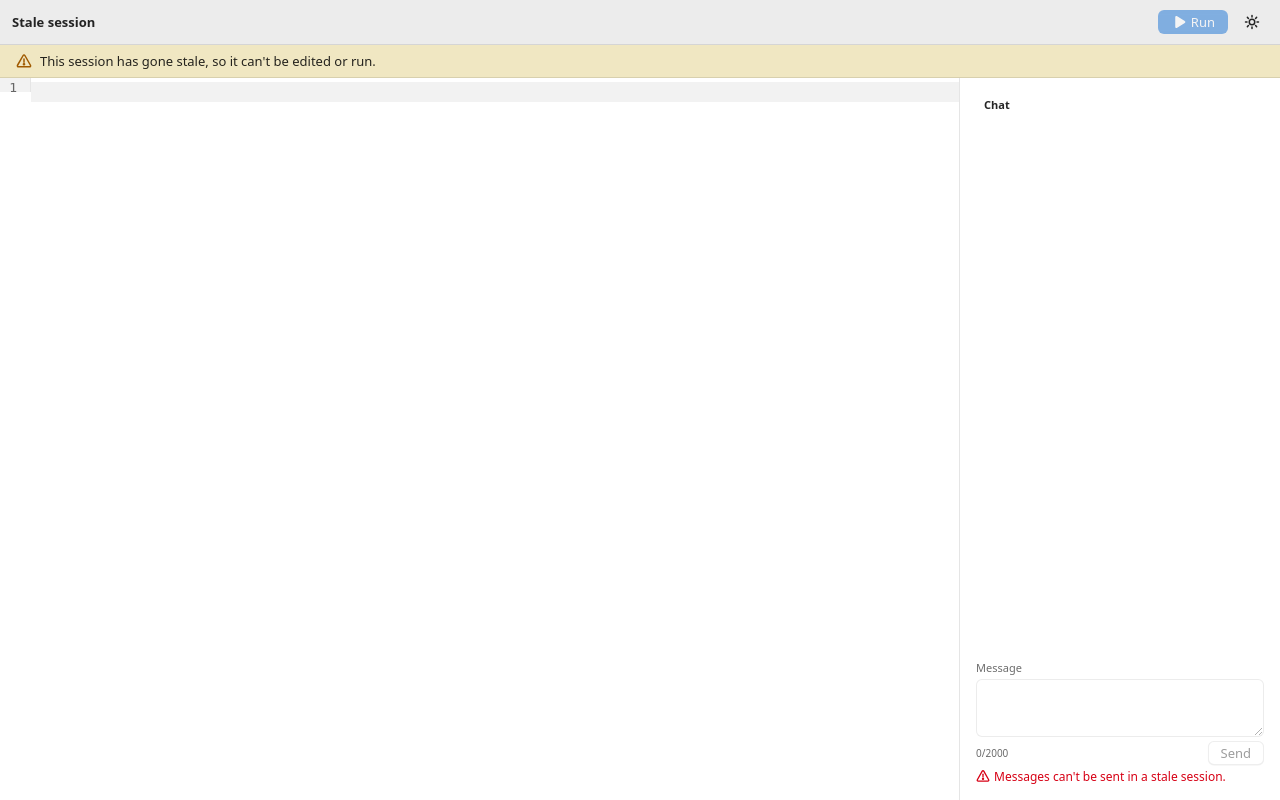
Test: SessionWindow, chat inspector (spec 003 FR-15) › a stale session shows the chat history read-only, with the reason
The width and height of the screenshot is (1280, 800).
Check: the text "This session has gone stale, so it can't be edited or run." is shown, box x1=40 y1=52 x2=376 y2=70
Click the tab "Chat".
click(997, 105)  # box x1=976 y1=94 x2=1018 y2=116
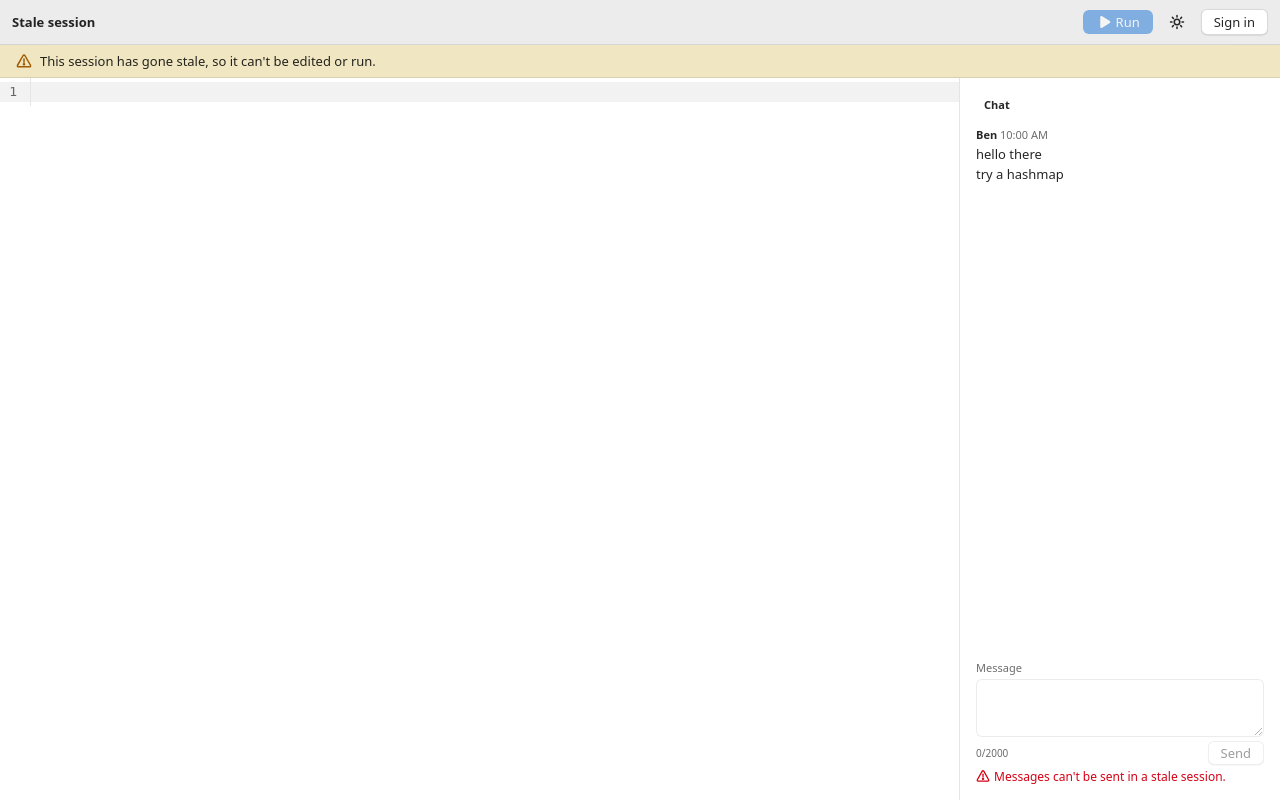
Check: the text box labelled "Message" is disabled, box x1=976 y1=679 x2=1264 y2=737
Check: the text "try a hashmap" is shown, box x1=976 y1=165 x2=1064 y2=183
